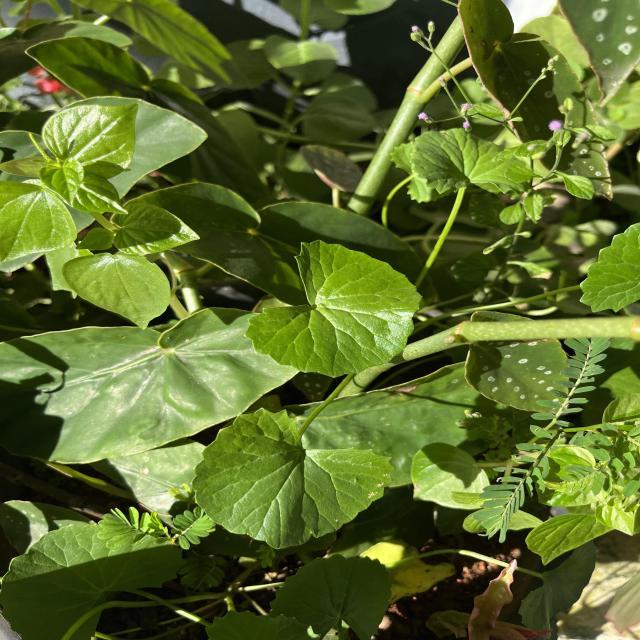Centella asiatica: (188, 402, 399, 552), (238, 235, 428, 382), (0, 519, 192, 640), (264, 551, 394, 640), (407, 121, 547, 199)
